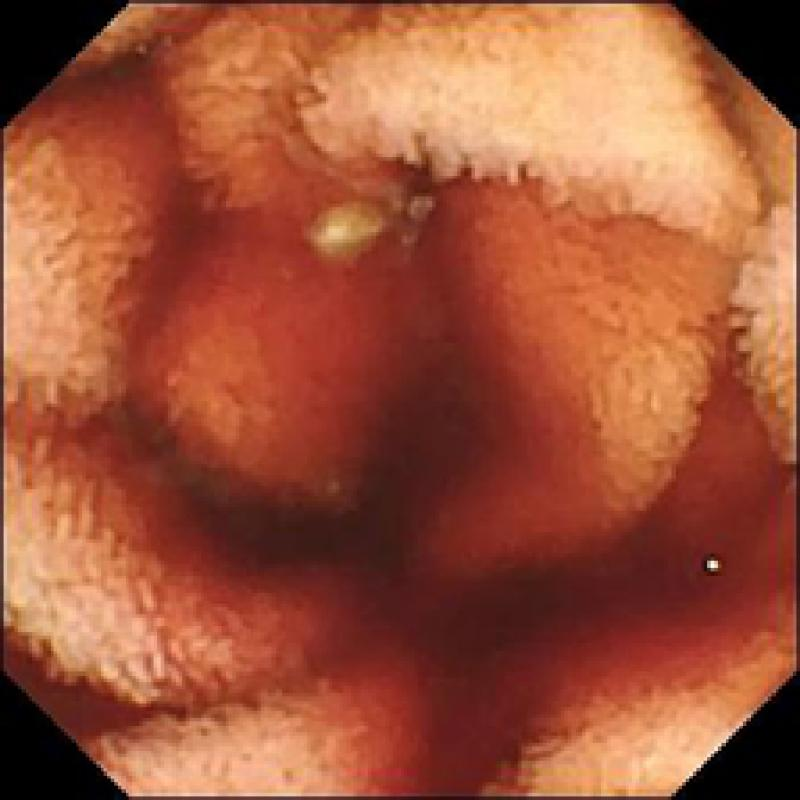bleeding: (21, 0, 800, 800)
